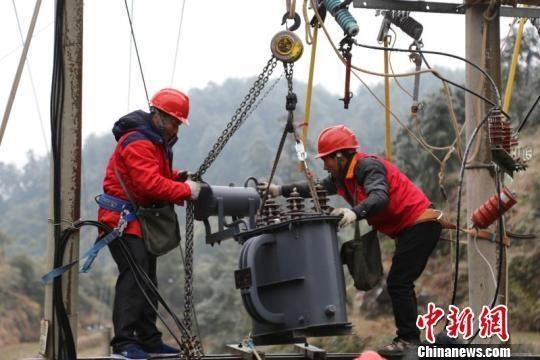helmet: (148, 86, 195, 124), (316, 124, 363, 157)
person: (308, 123, 430, 360), (96, 85, 199, 360)
